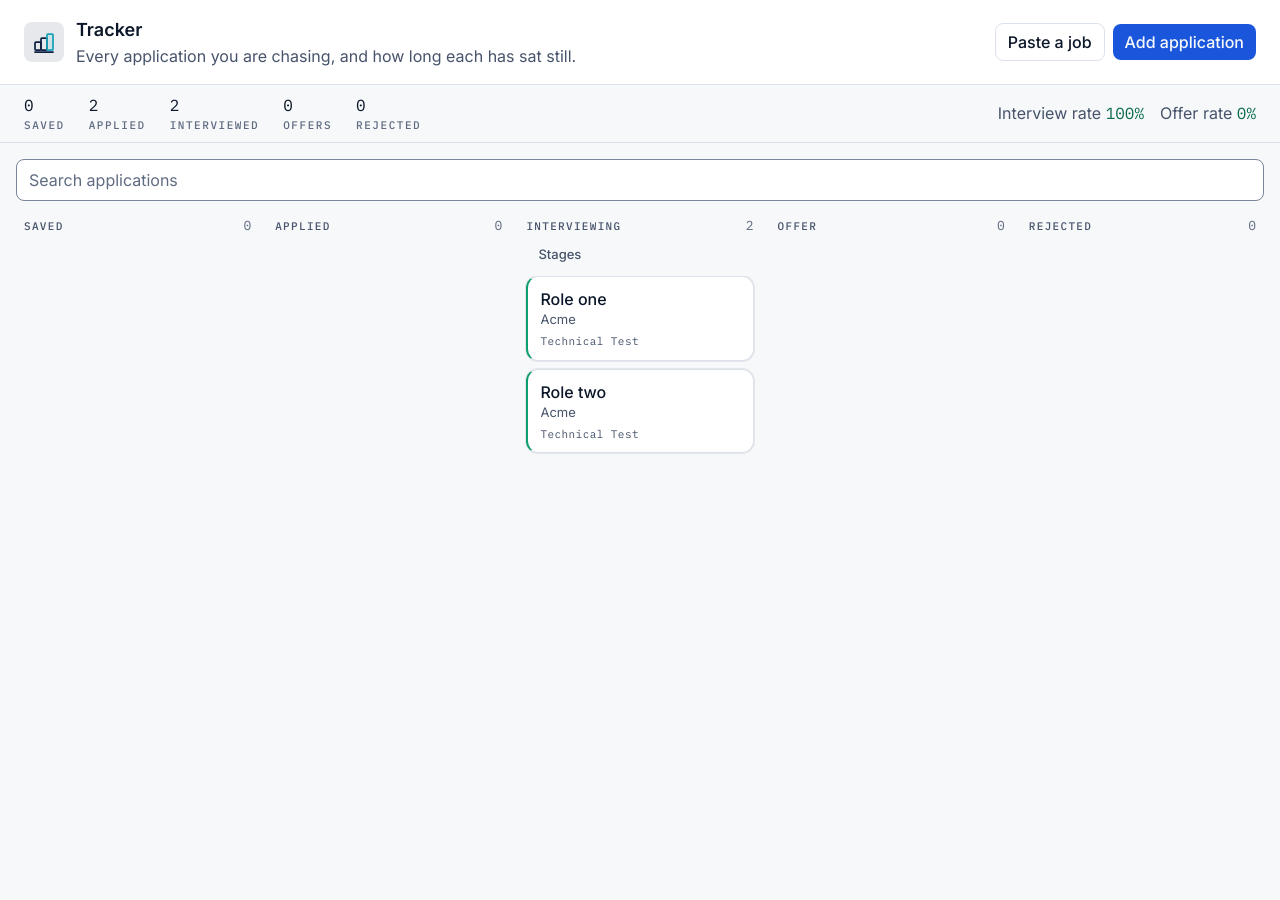
Scenario: D1: removing a stage that cards use asks first › names the count, and Keep leaves everything alone
Check: the element with test id "tracker-column-interviewing" is shown, box [518,208,762,461]
What coordinates should you click on to do the following:
click the button with test id "tracker-edit-substages"
I would click on:
 (560, 256)
Its box is [526,240,593,270].
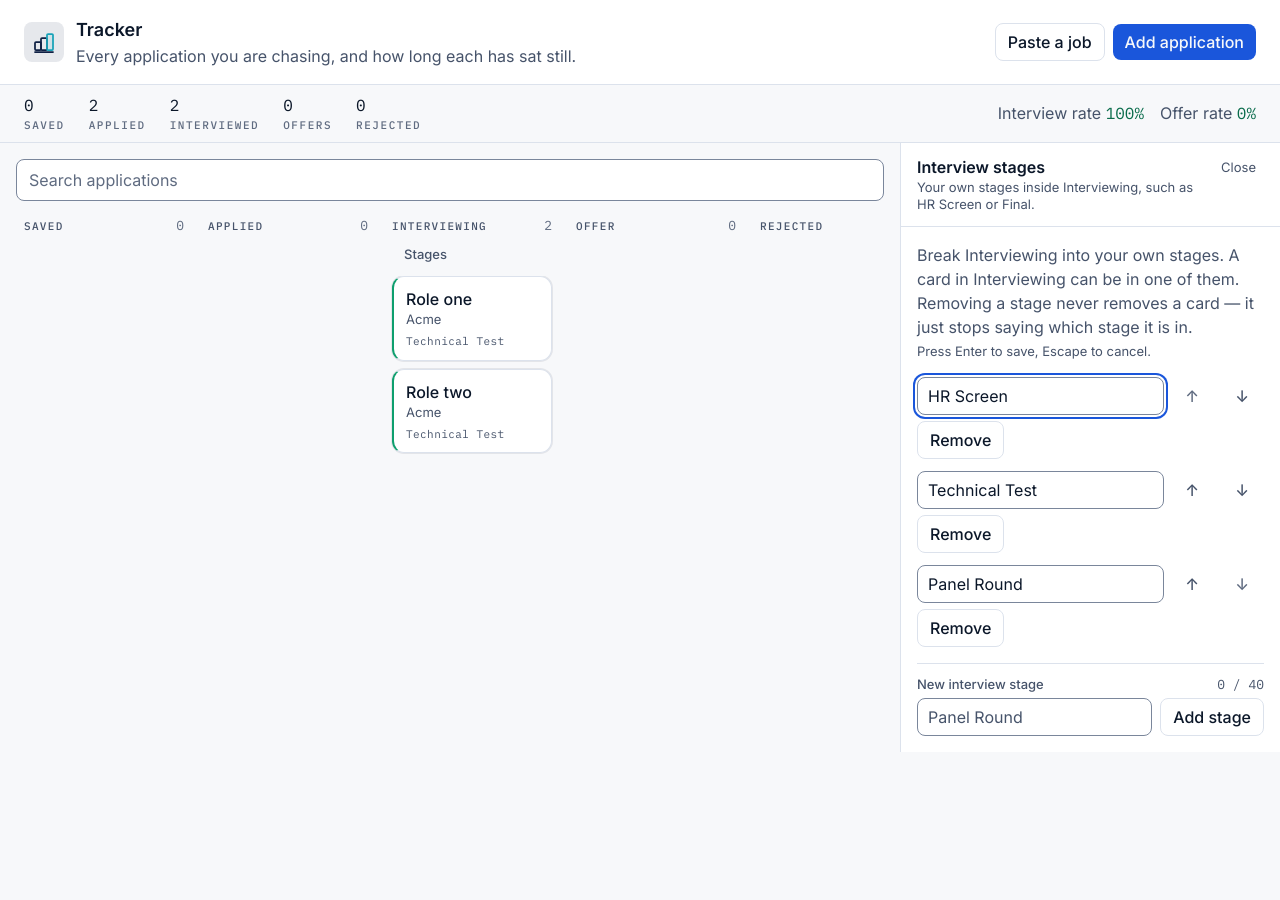
What coordinates should you click on to do the following:
click the button with aria-label "Remove Technical Test"
I would click on:
 (961, 534)
Its box is [917,516,1004,554].
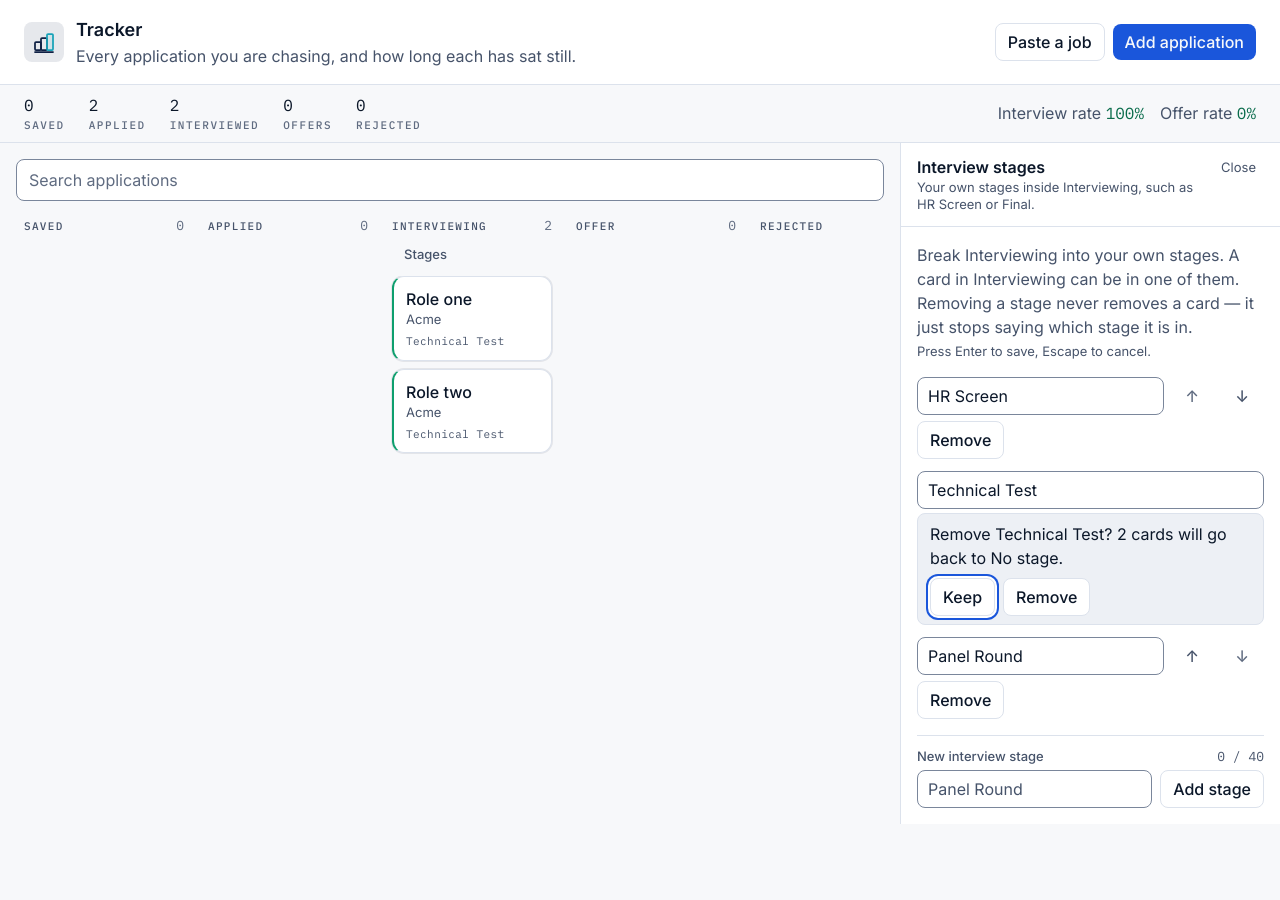
Check: the element with test id "substage-confirm" shows "Remove Technical Test? 2 cards will go back to No stage.", box [930,524,1227,568]
What coordinates should you click on to do the following:
click the button "Keep"
I would click on:
 (963, 598)
Its box is [930,578,995,616].
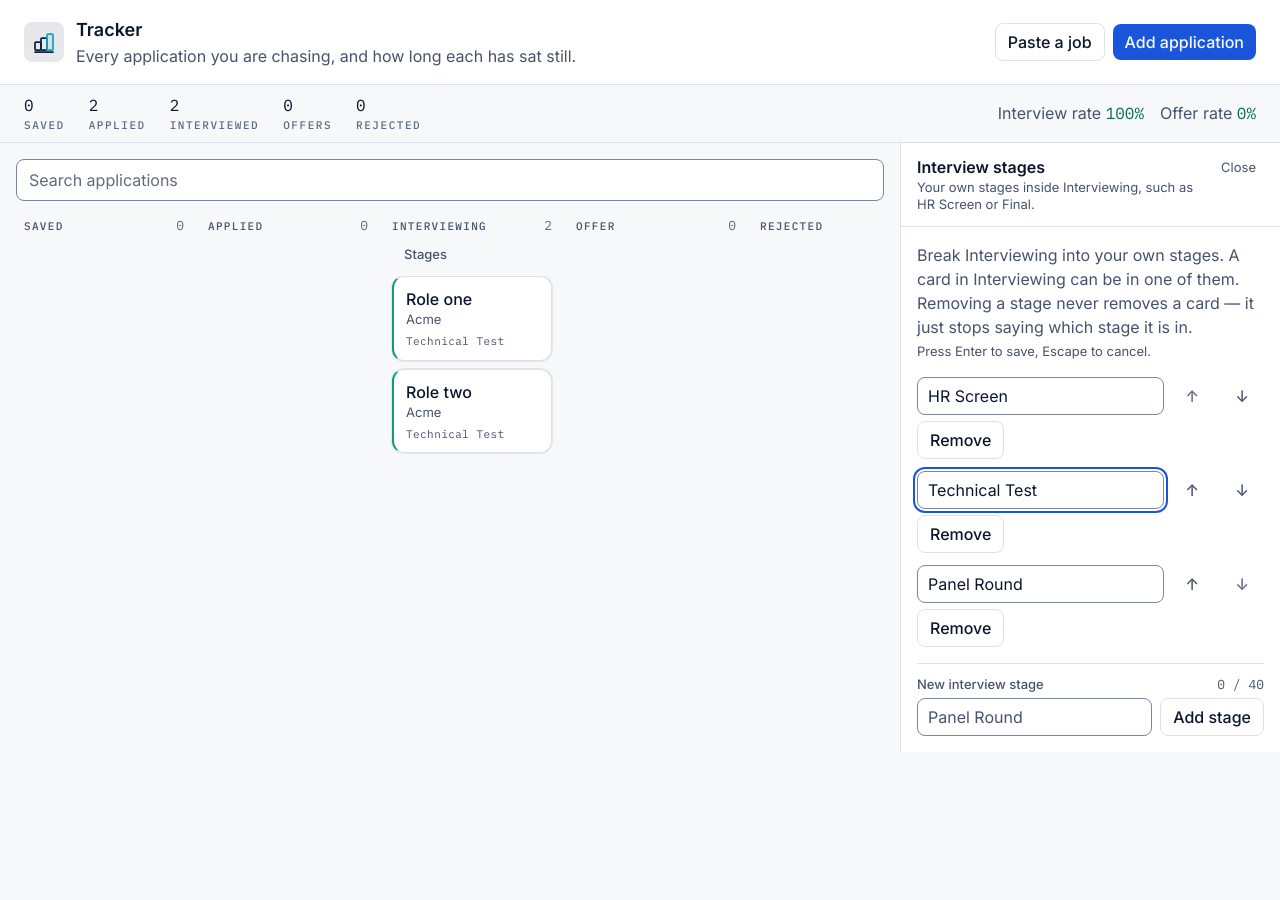
Check: the element with test id "substage-confirm" is gone
